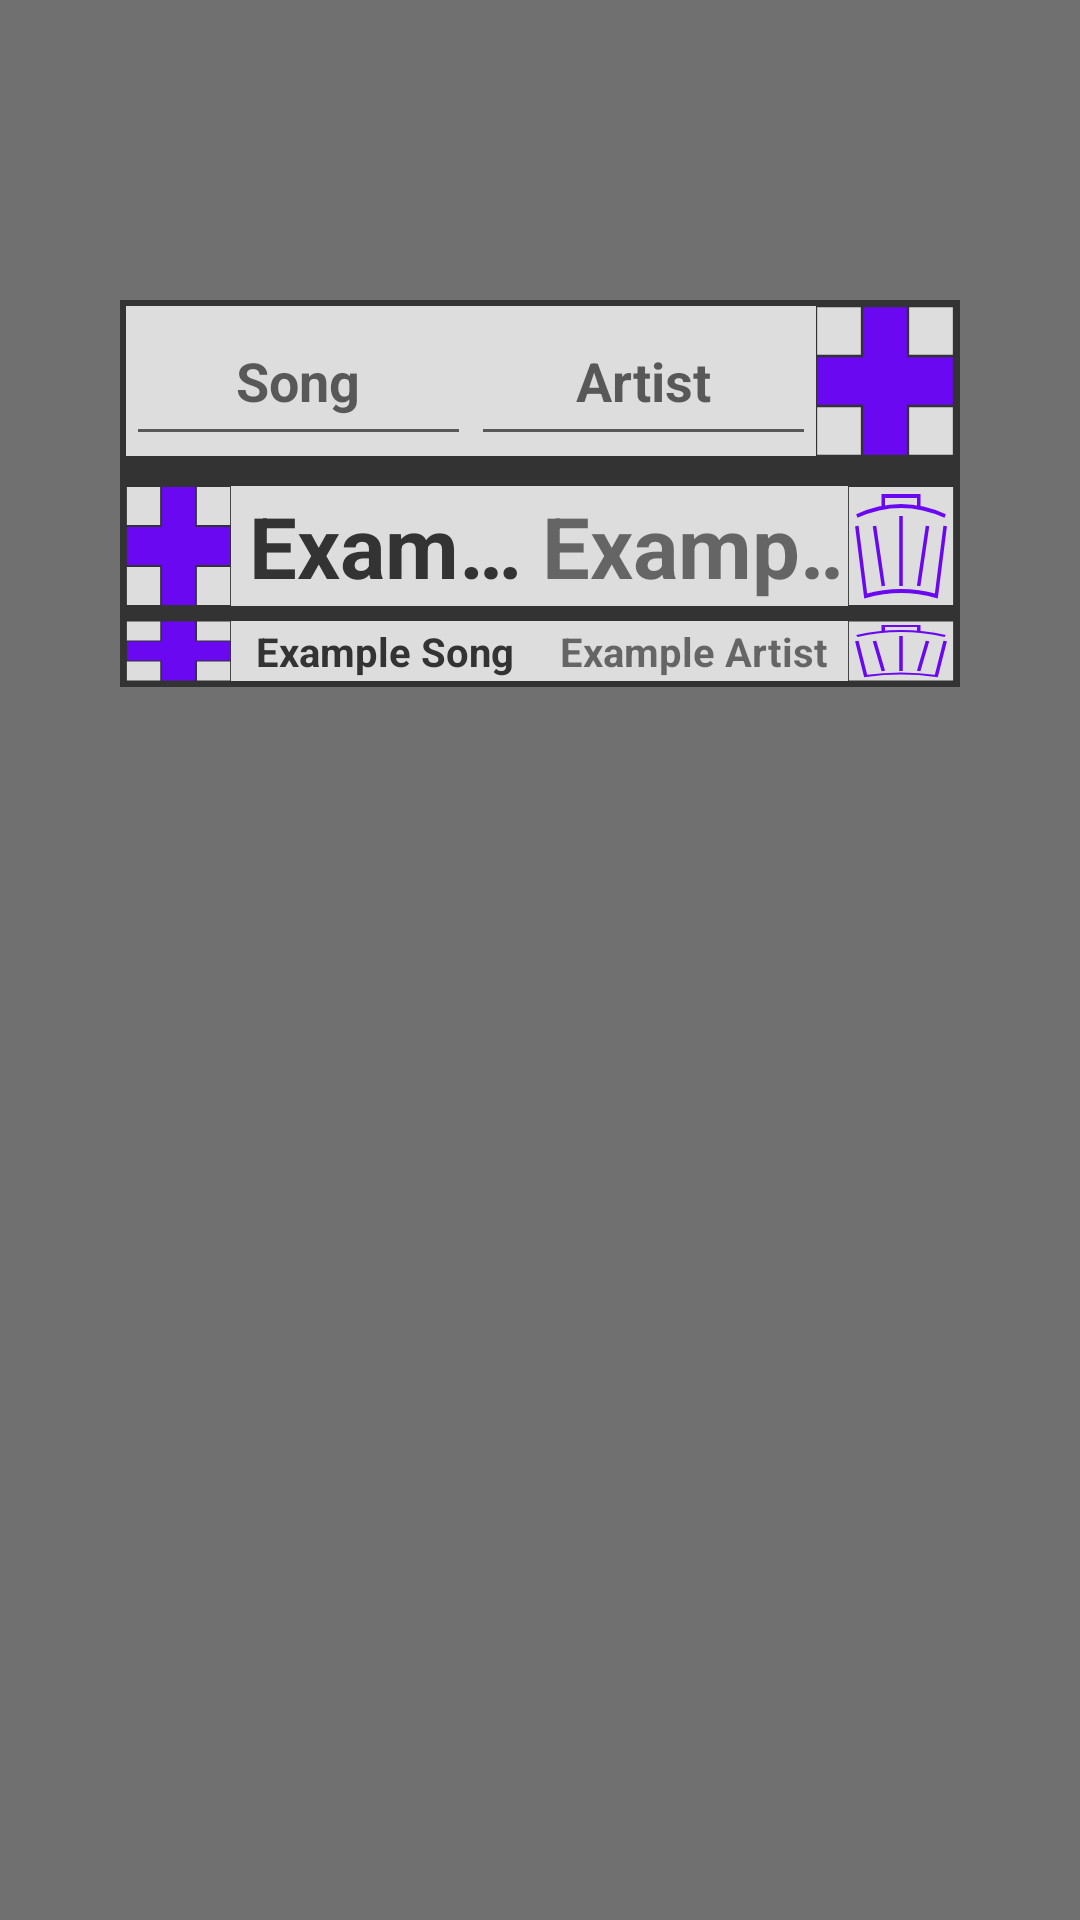

Icon click points for this 1080×1920 phone screenshot, format (x,y):
bin: (901,546), (901,651)
plus: (885,381), (178,546), (179,651)
